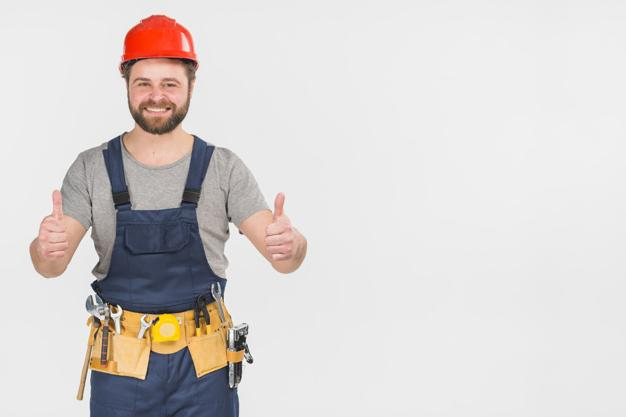thumbsup: (39, 189, 69, 260), (264, 192, 294, 261)
